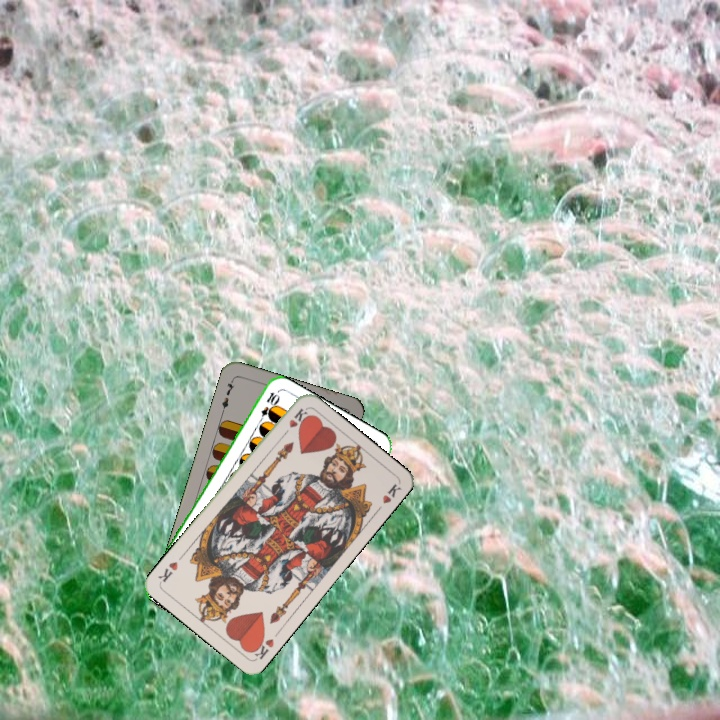E10: (254, 388, 281, 427)
E7: (218, 375, 237, 415)
HK: (278, 404, 310, 440), (246, 631, 277, 662)
